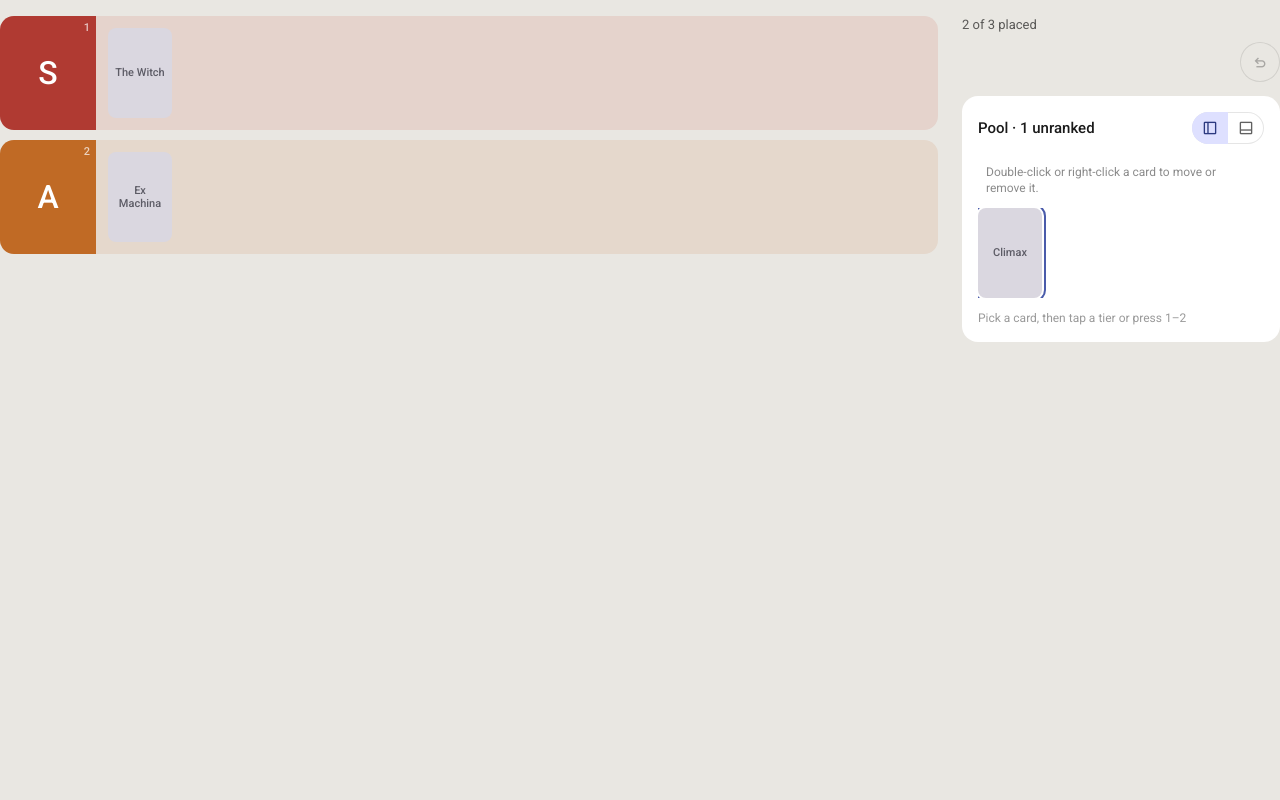
Test: RankingBoard's card menu › is the phone's sheet from the keyboard too where the pointer is a finger
Type keys "{Shift>}{F10}{/Shift}"
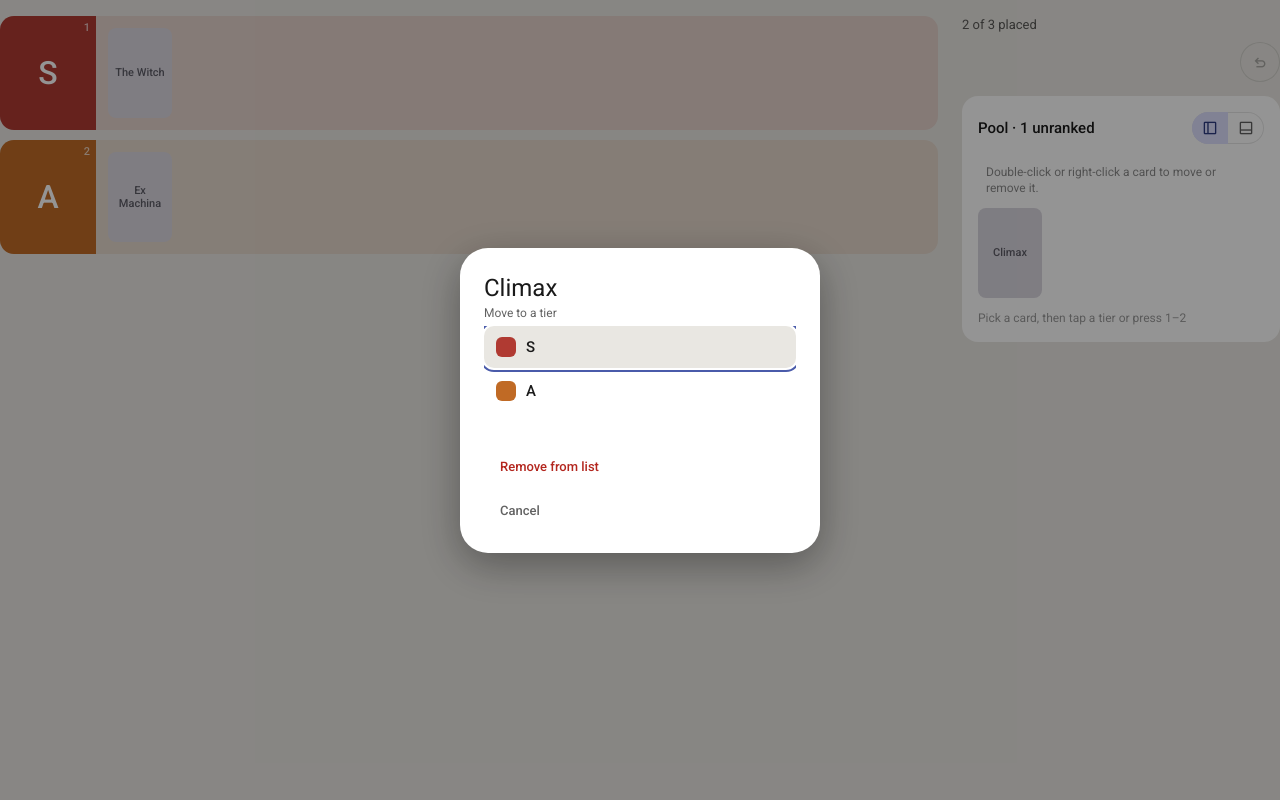
Click the button "Remove from list": (549, 466) [484,448,796,484]
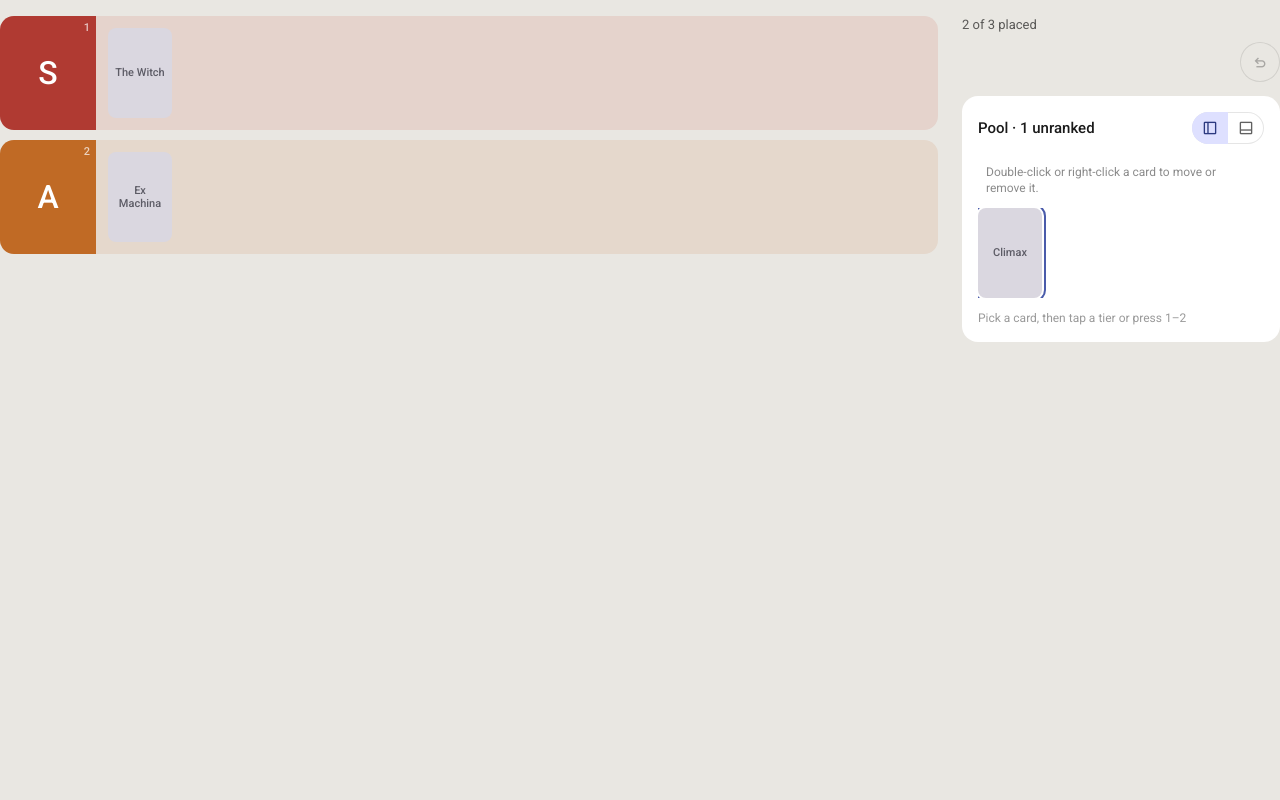
Check: the dialog is gone
